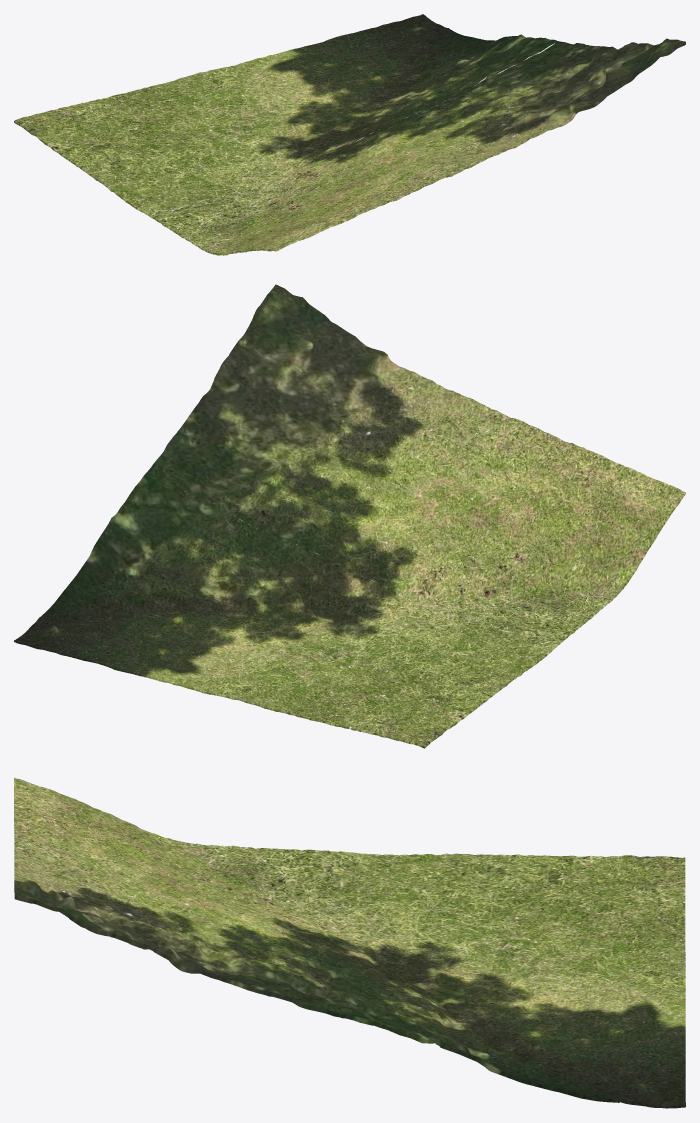
The picture shows the model from 3 angles, top to bottom: view 1: azimuth 30°, elevation 25°; view 2: azimuth 150°, elevation 25°; view 3: azimuth 270°, elevation 25°; orthographic projection. The views are drawn at different scales.
Visible parts, largest first — view 1: node_135; view 2: node_135; view 3: node_135.
Boxes of the visible parts, left/top/right/bottom form: node_135: left=14, top=14, right=685, bottom=255; node_135: left=14, top=284, right=685, bottom=748; node_135: left=14, top=777, right=685, bottom=1108.
Bounding box in the file's own units: 9 × 3.62 × 9.96.
1 material, 1 textured.
